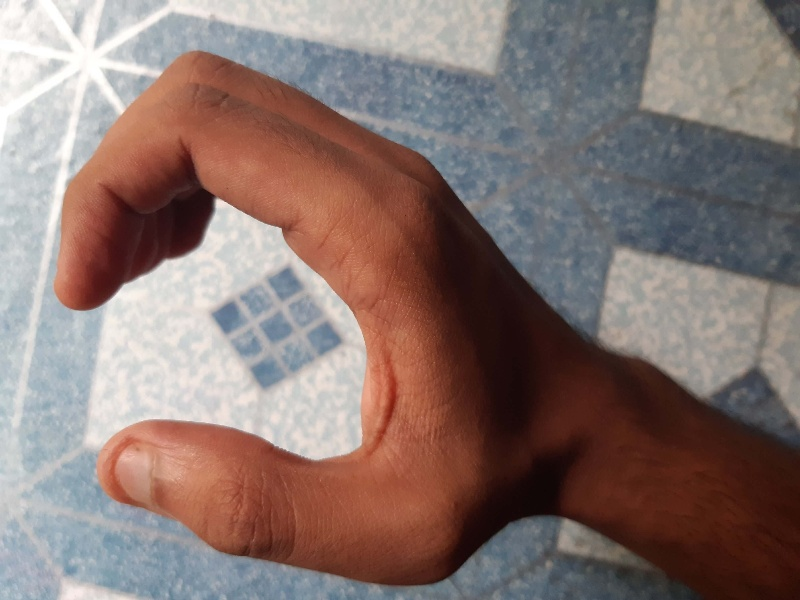one: (35, 33, 571, 593)
